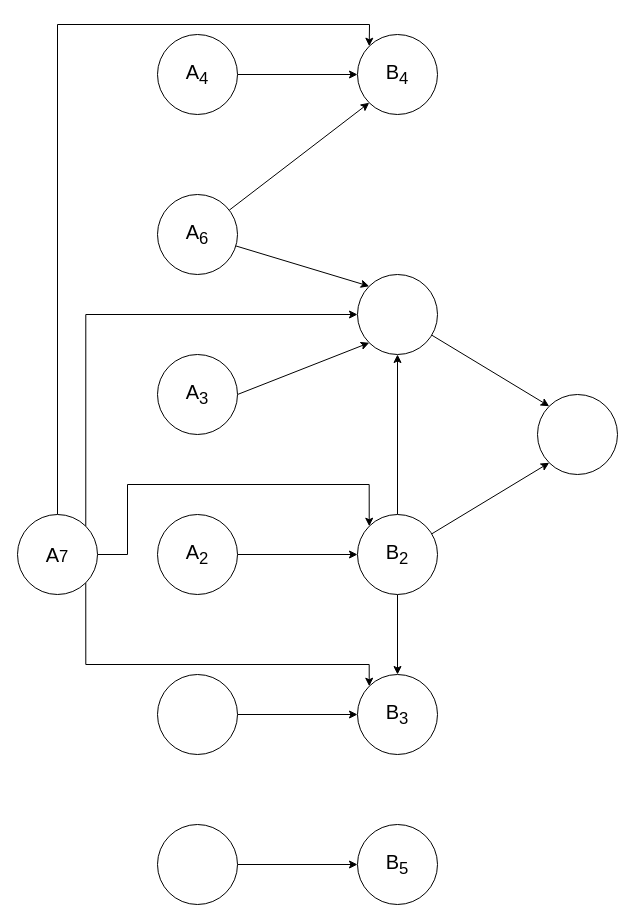
Some shapes in this 635 by 922 pixel diagram are drawn without their labels. Each missing label, with the centre of its shape:
"A 1" belongs at [197,714].
"A 5" belongs at [197,864].
"B 1" belongs at [397,314].
"B 6" belongs at [577,434].
